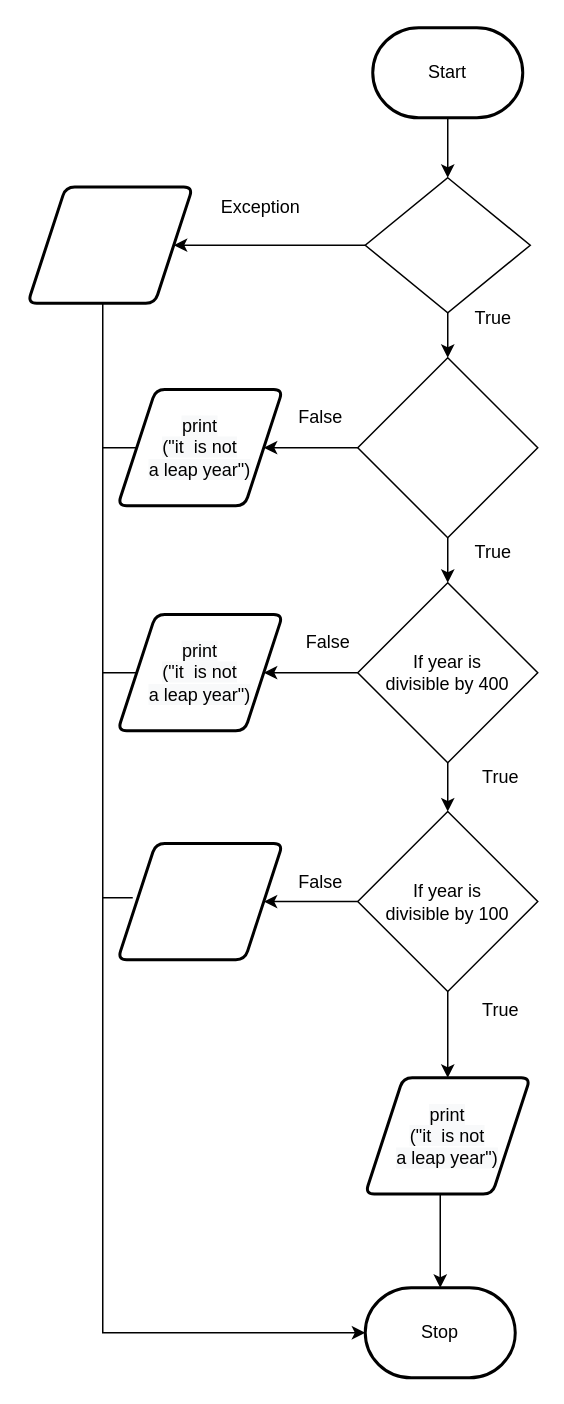
Image size: 564x1404. Some labels were removed from this diagram. Each missing label, with the centre of its shape:
If year is divisible by 4: [447,447]
print ("it is a leap year"): [200,900]
print ("Really? (-_-)ゞ゛ pick a year pls"): [110,244]
try: [447,244]
